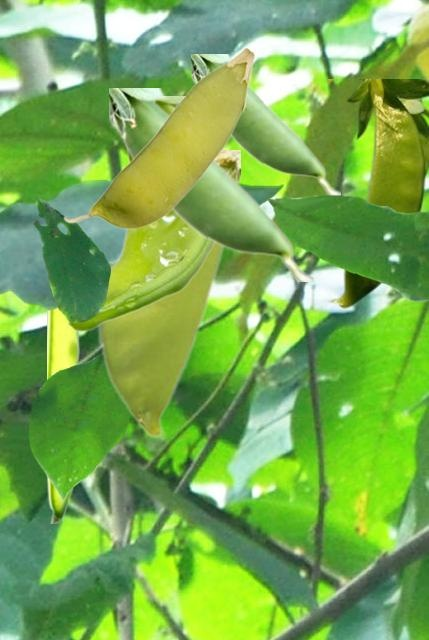pea: (97, 150, 239, 436), (109, 88, 312, 280), (64, 96, 217, 330), (63, 47, 254, 228), (328, 79, 427, 307), (191, 54, 339, 193), (47, 310, 80, 522)
